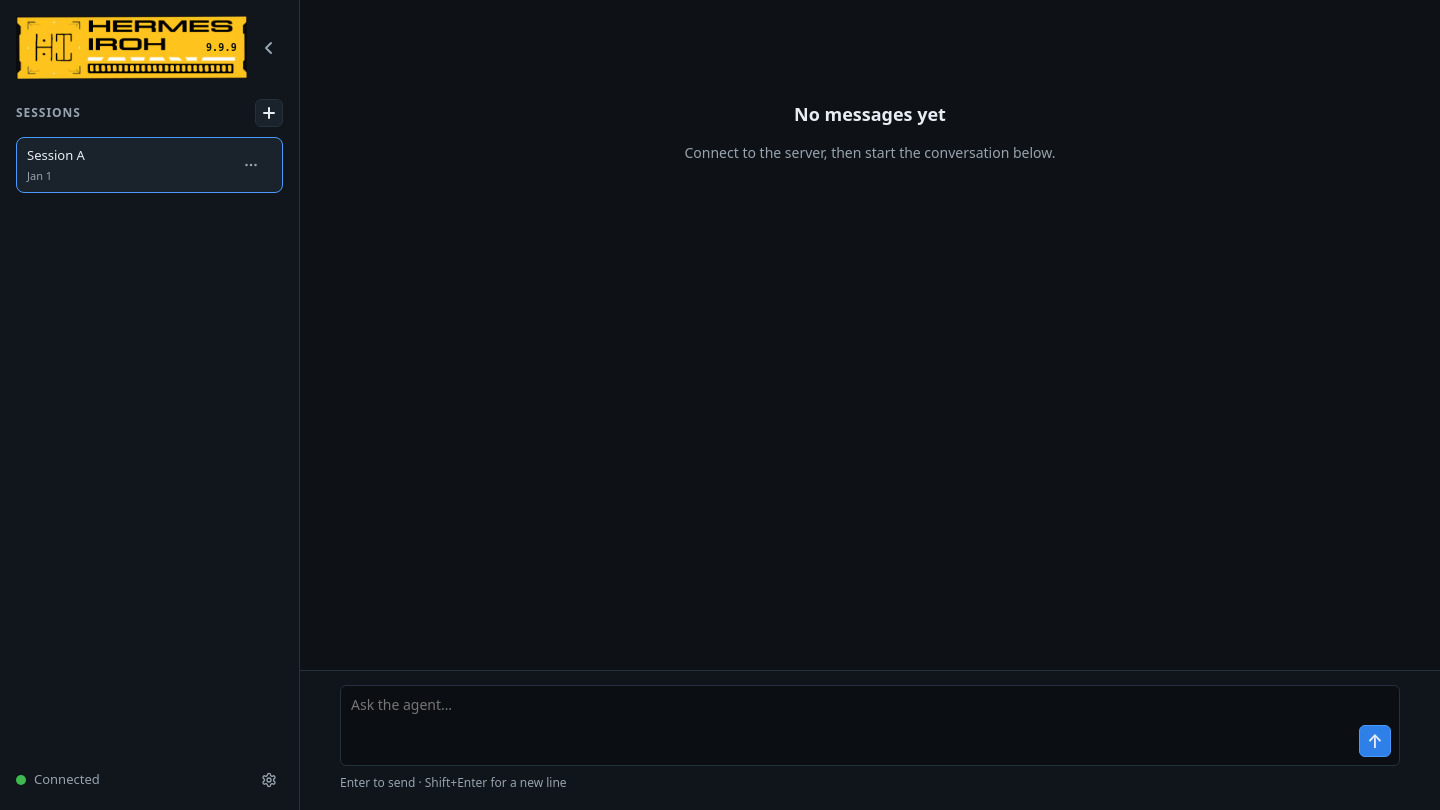
Test: sidebar focus management › returns focus to the toggle when the rail collapses
Click the button with class "sidebar-toggle".
click(269, 48)  # box [255,34,283,62]
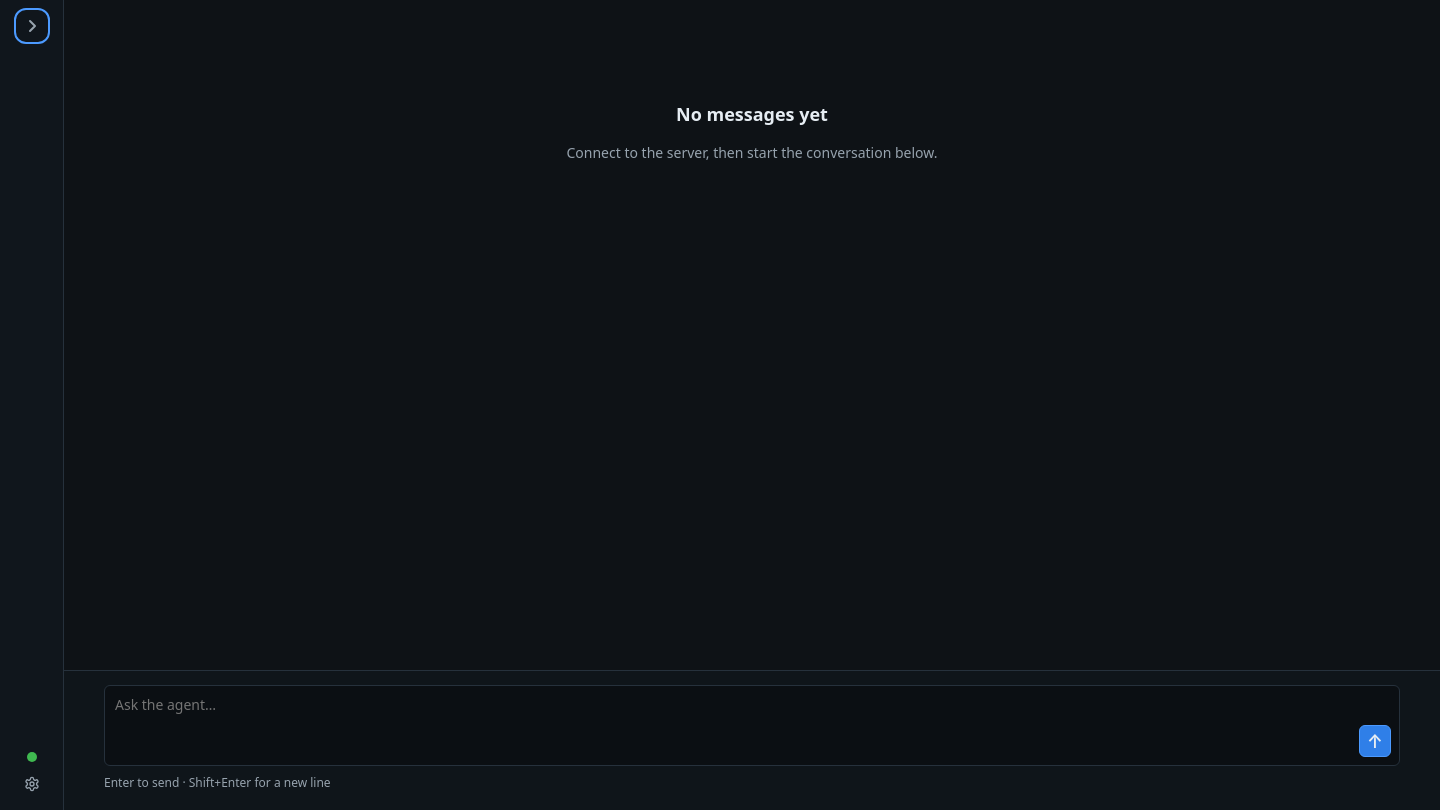
Expected: the button with class "sidebar-toggle" has attribute aria-label="Expand sidebar", [18,12,46,40]
